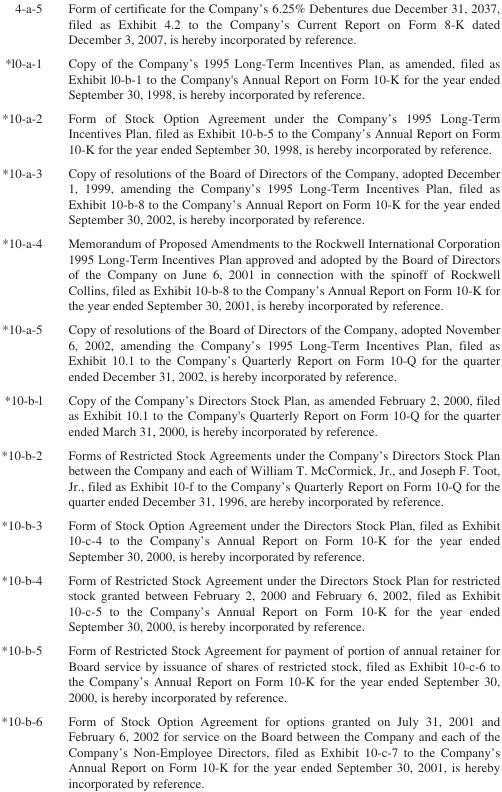table: (0, 0, 499, 789)
table column: (54, 0, 499, 789), (0, 0, 54, 789)
table row: (0, 230, 499, 316), (0, 708, 499, 789), (0, 316, 499, 387), (0, 637, 499, 708), (0, 160, 499, 230), (0, 442, 499, 512), (0, 567, 499, 637), (0, 50, 499, 105), (0, 105, 499, 160), (0, 387, 499, 442), (0, 512, 499, 567), (0, 0, 499, 50)
